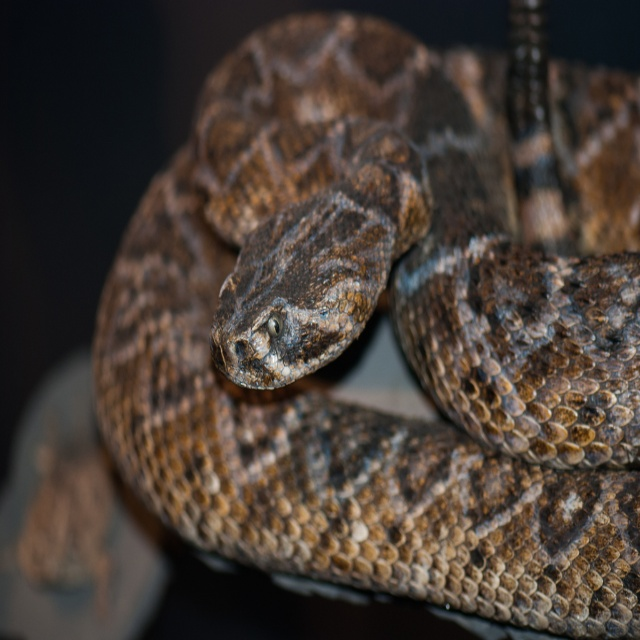Snake: (91, 0, 640, 640)
